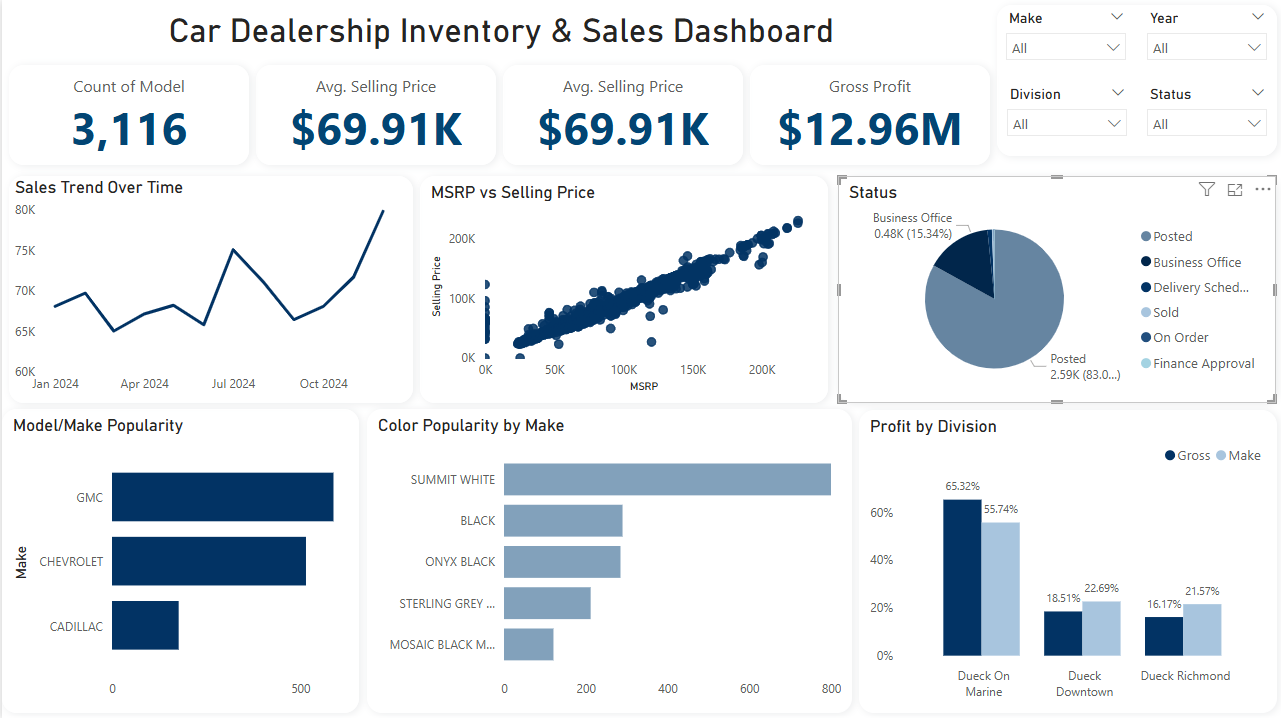

The dashboard page shown, as its layout file describes it:
{"tool":"powerbi","page":{"name":"Page 1","canvas":[1280,720],"ordinal":0},"visuals":[{"type":"textbox","box":[0,0,999,65],"z":0},{"type":"lineChart","title":"Sales Trend Over Time","fields":{"Y":["Avg(Sold Data Retail.Selling Price)"],"Category":["Sold Data Retail.Contract Date.Variation.Date Hierarchy.Year","Sold Data Retail.Contract Date.Variation.Date Hierarchy.Quarter","Sold Data Retail.Contract Date.Variation.Date Hierarchy.Month"]},"box":[7,176,404,227],"z":1000},{"type":"slicer","fields":{"Values":["Sold Data Retail.Year"]},"box":[1135,5,140,75],"z":2000},{"type":"scatterChart","title":"MSRP vs Selling Price","fields":{"X":["Sold Data Retail.MSRP"],"Y":["Sold Data Retail.Selling Price"]},"box":[418,176,408,227],"z":3000},{"type":"pieChart","title":"Status","fields":{"Category":["Sold Data Retail.Status"],"Y":["CountNonNull(Sold Data Retail.Status)"]},"box":[836,176,438,227],"z":4000},{"type":"slicer","fields":{"Values":["Sold Data Retail.Make"]},"box":[994.1,5,140,75.7],"z":5000},{"type":"clusteredBarChart","title":"Model/Make Popularity","fields":{"Category":["Sold Data Retail.Make","Sold Data Retail.Model"],"Y":["CountNonNull(Sold Data Retail.Model)"]},"box":[0,409.4,356.7,303.9],"z":6000},{"type":"slicer","fields":{"Values":["Sold Data Retail.Status"]},"box":[1135,80.7,140,74.8],"z":7000},{"type":"slicer","fields":{"Values":["Sold Data Retail.Division"]},"box":[995,80.7,140,75.7],"z":8000},{"type":"barChart","title":"Color Popularity by Make","fields":{"Category":["Sold Data Retail.Colour","Sold Data Retail.Make"],"Y":["CountNonNull(Sold Data Retail.Colour)"]},"box":[365.3,409.4,485.2,303.9],"z":9000},{"type":"clusteredColumnChart","title":"Profit by Division","fields":{"Category":["Sold Data Retail.Division"],"Y":["Sum(Sold Data Retail.Vehicle Gross)","CountNonNull(Sold Data Retail.Make)"]},"box":[857.4,409.7,417.5,303.6],"z":10000},{"type":"cardVisual","title":"Total Vehicles","fields":{"Data":["Avg(Sold Data Retail.Selling Price)"]},"box":[253.7,65,240.3,100],"z":11000},{"type":"cardVisual","title":"Total Vehicles","fields":{"Data":["Avg(Sold Data Retail.Selling Price)"]},"box":[501.1,65,239.8,100],"z":12000},{"type":"cardVisual","title":"Total Vehicles","fields":{"Data":["Sum(Sold Data Retail.Vehicle Gross)"]},"box":[747.8,65,239.8,100],"z":13000},{"type":"cardVisual","title":"Total Vehicles","fields":{"Data":["CountNonNull(Sold Data Retail.Model)"]},"box":[7,65,240,100],"z":14000},{"type":"shape","box":[995,5,280,151],"z":15000}]}

Visuals, with their boxes in screenshot pixels (x1, y1, x2, y2), scaled from the page's 1280x720 canvas onto the 1281x718 screenshot:
textbox: <bbox>0, 0, 1000, 65</bbox>
"Sales Trend Over Time" lineChart: <bbox>7, 176, 411, 402</bbox>
slicer - Sold Data Retail.Year: <bbox>1136, 5, 1276, 80</bbox>
"MSRP vs Selling Price" scatterChart: <bbox>418, 176, 827, 402</bbox>
"Status" pieChart: <bbox>837, 176, 1275, 402</bbox>
slicer - Sold Data Retail.Make: <bbox>995, 5, 1135, 80</bbox>
"Model/Make Popularity" clusteredBarChart: <bbox>0, 408, 357, 711</bbox>
slicer - Sold Data Retail.Status: <bbox>1136, 80, 1276, 155</bbox>
slicer - Sold Data Retail.Division: <bbox>996, 80, 1136, 156</bbox>
"Color Popularity by Make" barChart: <bbox>366, 408, 851, 711</bbox>
"Profit by Division" clusteredColumnChart: <bbox>858, 409, 1276, 711</bbox>
"Total Vehicles" cardVisual: <bbox>254, 65, 494, 165</bbox>
"Total Vehicles" cardVisual: <bbox>501, 65, 741, 165</bbox>
"Total Vehicles" cardVisual: <bbox>748, 65, 988, 165</bbox>
"Total Vehicles" cardVisual: <bbox>7, 65, 247, 165</bbox>
shape: <bbox>996, 5, 1276, 156</bbox>
